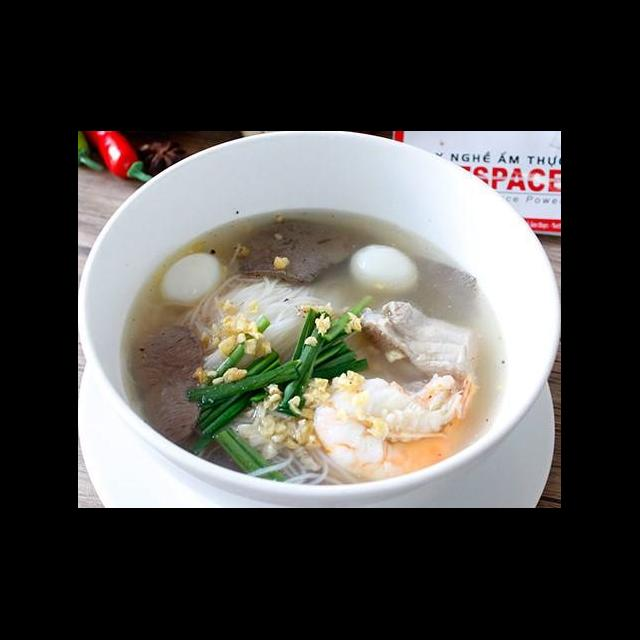gan: (232, 216, 374, 288)
hu tieu: (180, 270, 356, 380), (208, 402, 360, 488)
thit heo: (354, 296, 484, 384)
tom: (310, 366, 480, 486)
trung: (346, 240, 426, 300), (158, 248, 226, 308)
